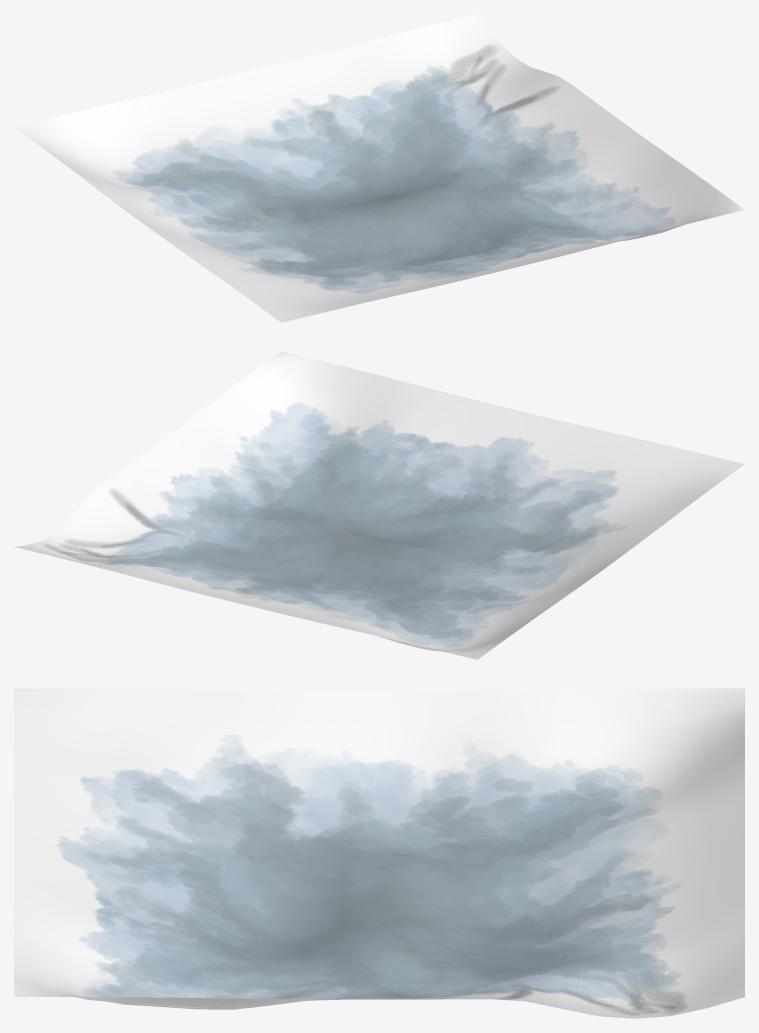
The model's file is Cloud.fbx.
The picture shows the model from 3 angles, top to bottom: view 1: azimuth 30°, elevation 25°; view 2: azimuth 150°, elevation 25°; view 3: azimuth 270°, elevation 25°; orthographic projection. The views are drawn at different scales.
Visible parts, largest first — view 1: Cloud; view 2: Cloud; view 3: Cloud.
Part boxes in pixels (<box>): Cloud: <box>14,14,744,322</box>; Cloud: <box>14,351,744,659</box>; Cloud: <box>14,688,744,1018</box>.
Size of the model in its own units: 8 by 0.9263 by 8.
